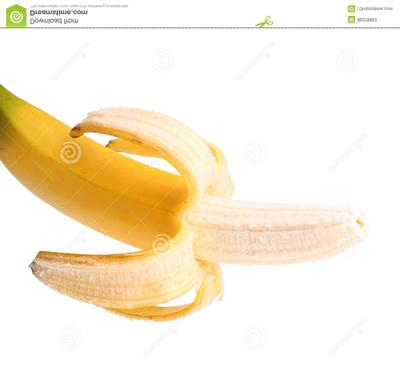banana: (0, 0, 400, 383)
